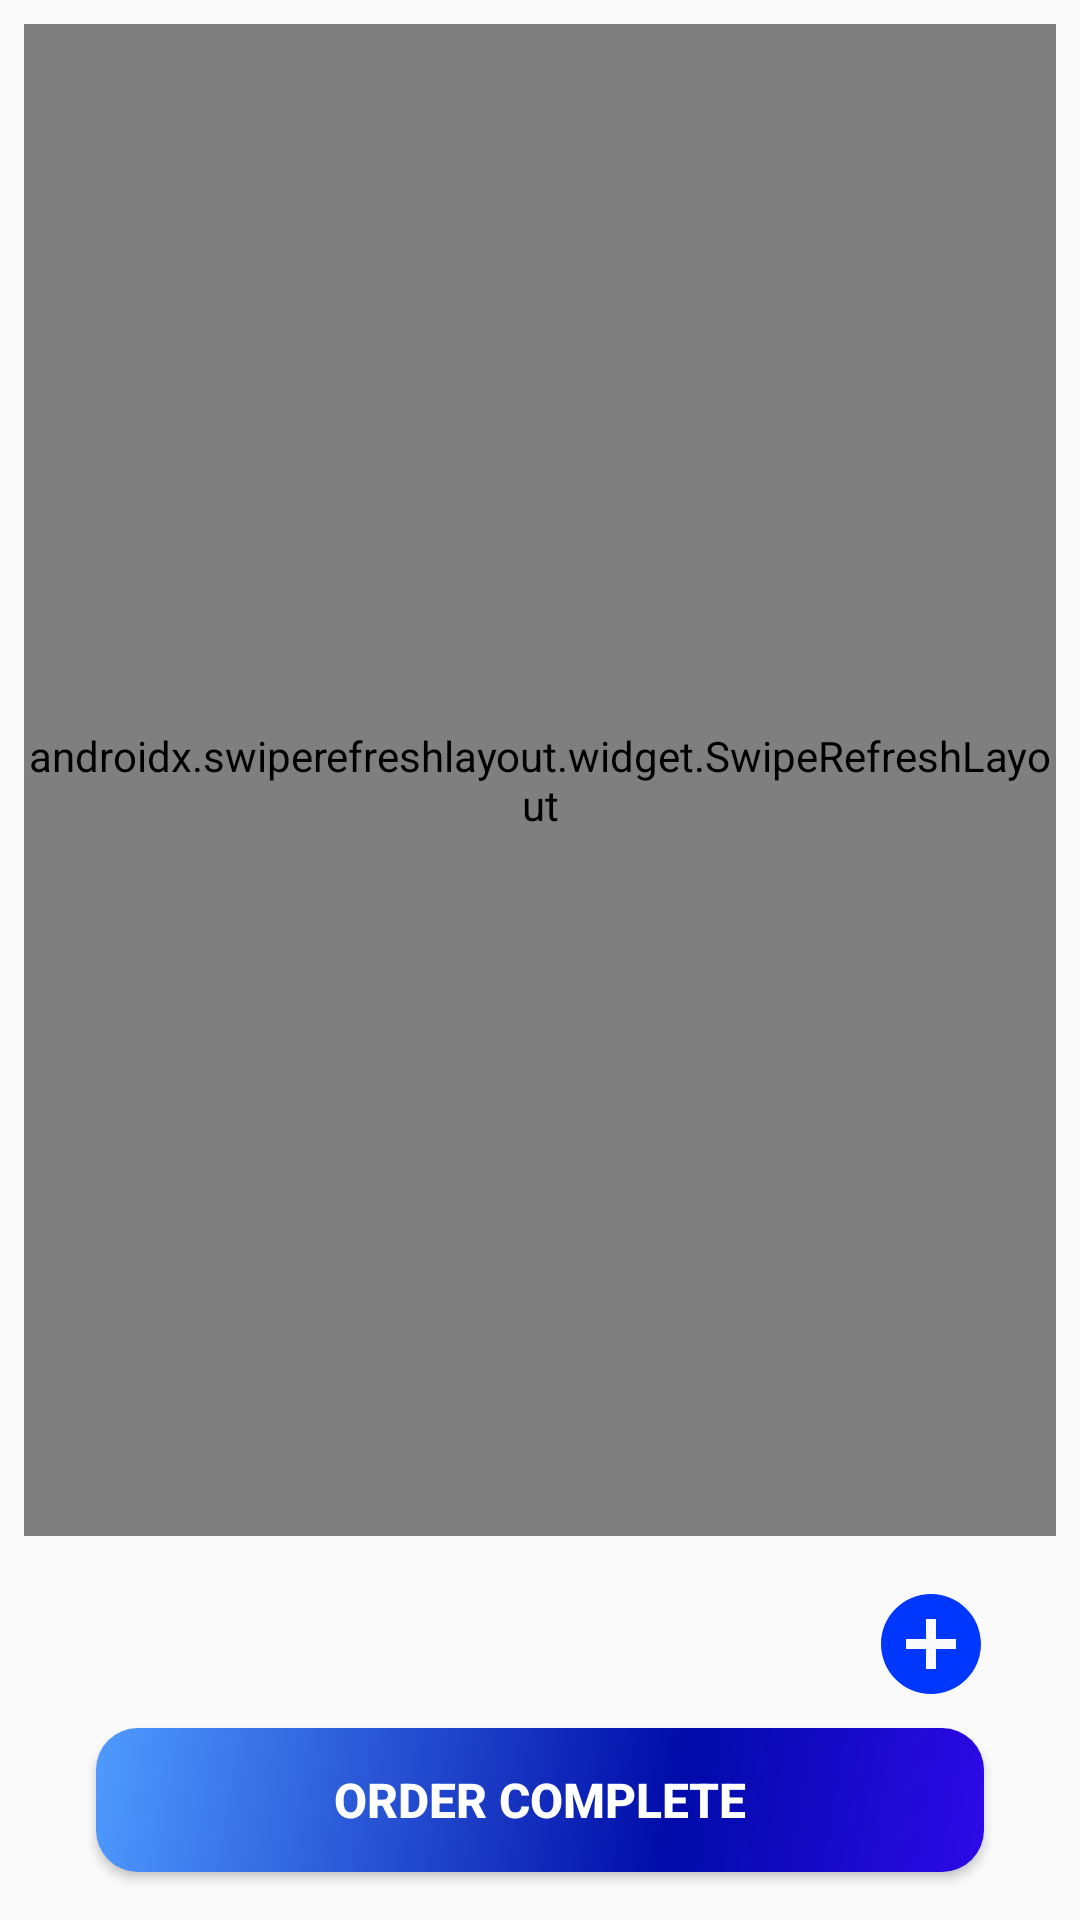

Locate icon controls on the screen. Image size 1080x1920, boxes as (x1, y1, x2, y2).
add circle: (881, 1594, 981, 1694)
